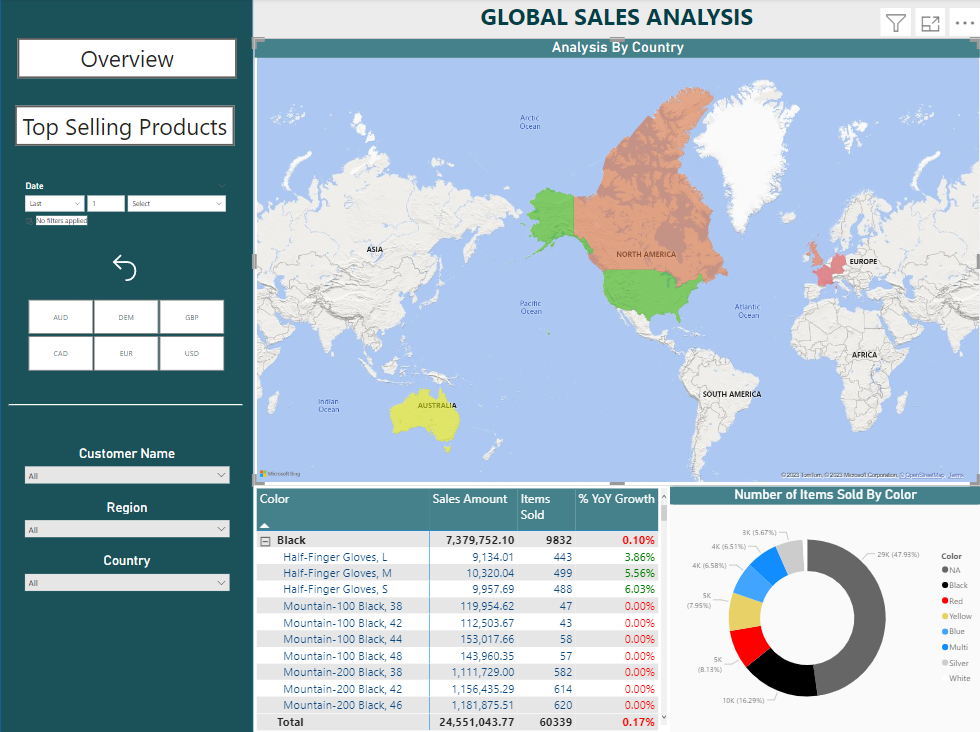

The page's visual inventory and layout, read from the dashboard file:
{"tool":"powerbi","page":{"name":"Main Report","canvas":[1600,1200],"ordinal":0},"visuals":[{"type":"shape","box":[0,0,412.7,1200],"z":0},{"type":"shape","box":[13.5,650.4,380.9,25.6],"z":1000},{"type":"textbox","box":[412,0,1187.6,65.3],"z":2000},{"type":"actionButton","box":[174.6,411,55.7,55.7],"z":3000},{"type":"actionButton","box":[28.3,65.6,357.6,65.6],"z":4000},{"type":"actionButton","box":[23.8,174.3,357.6,65.6],"z":5000},{"type":"slicer","fields":{"Values":["Calendar Table.Date"]},"box":[28.6,293.6,352.3,102.4],"z":6000},{"type":"slicer","fields":{"Values":["dimCurrency.CurrencyAlternateKey"]},"box":[19.6,484.8,368.8,129.5],"z":7000},{"type":"slicer","title":"Customer Name","fields":{"Values":["dimCustomer.CustomerName"]},"box":[31.2,729.1,352.8,87.4],"z":8000},{"type":"slicer","title":"Region","fields":{"Values":["dimSalesTerritory.SalesTerritoryRegion"]},"box":[29.7,816.5,352.8,87.4],"z":9000},{"type":"slicer","title":"Country","fields":{"Values":["dimSalesTerritory.SalesTerritoryCountry"]},"box":[29.7,904,352.8,87.4],"z":10000},{"type":"filledMap","title":"Analysis By Country","fields":{"Category":["dimSalesTerritory.SalesTerritoryCountry"]},"box":[413.2,65.2,1187.1,729.4],"z":11000},{"type":"pivotTable","fields":{"Rows":["dimProduct.Color","dimProduct.EnglishProductName"],"Values":["#Measures.Currency Conversion","#Measures.Number of Sales","#Measures.% Sales YoY Growth"]},"box":[414.6,795.6,678.2,403.9],"z":12000},{"type":"donutChart","title":"Number of Items Sold By Color","fields":{"Category":["dimProduct.Color"],"Y":["#Measures.Number of Sales"]},"box":[1093,796,507,404],"z":13000}]}

Visuals, with their boxes on the page's 1600x1200 design canvas (x1, y1, x2, y2). These are canvas units, not pixel positions in the 980x732 screenshot, which may show the page scaled, cropped or inside an application window:
shape: <box>0,0,413,1200</box>
shape: <box>14,650,394,676</box>
textbox: <box>412,0,1600,65</box>
actionButton: <box>175,411,230,467</box>
actionButton: <box>28,66,386,131</box>
actionButton: <box>24,174,381,240</box>
slicer - Calendar Table.Date: <box>29,294,381,396</box>
slicer - dimCurrency.CurrencyAlternateKey: <box>20,485,388,614</box>
"Customer Name" slicer: <box>31,729,384,816</box>
"Region" slicer: <box>30,816,382,904</box>
"Country" slicer: <box>30,904,382,991</box>
"Analysis By Country" filledMap: <box>413,65,1600,795</box>
pivotTable - dimProduct.Color x dimProduct.EnglishProductName: <box>415,796,1093,1200</box>
"Number of Items Sold By Color" donutChart: <box>1093,796,1600,1200</box>
